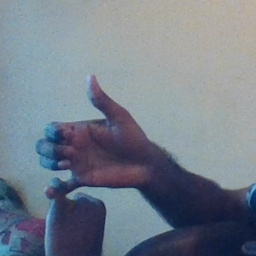S: (31, 72, 162, 254)
